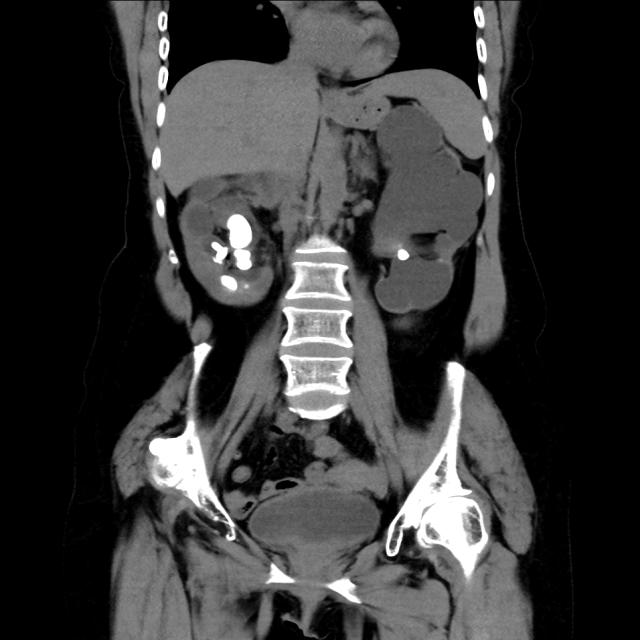kidneystone: (227, 214, 252, 249), (233, 249, 252, 270), (211, 241, 228, 264), (220, 275, 237, 291), (396, 249, 411, 261)
